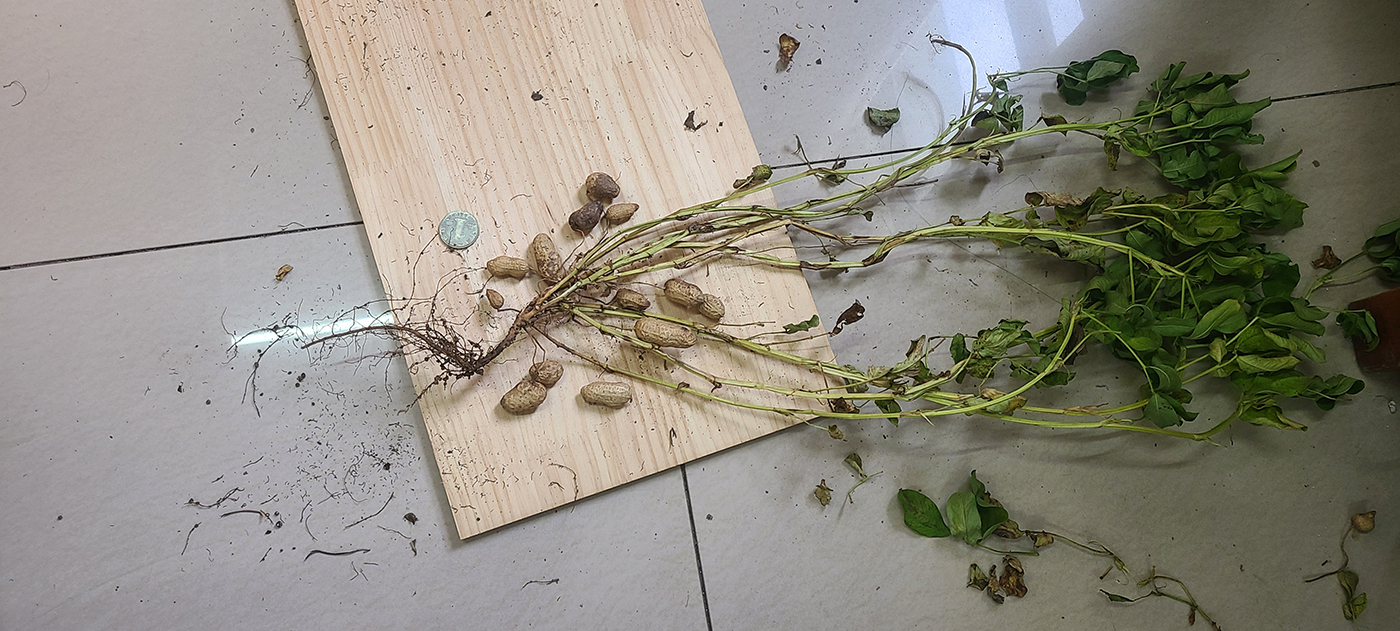h: (662, 279, 724, 321), (636, 318, 698, 350), (501, 378, 546, 416), (534, 231, 565, 283), (582, 381, 634, 407), (488, 257, 529, 279), (529, 360, 564, 385), (616, 285, 650, 309), (604, 203, 638, 223)
l: (570, 201, 601, 233), (587, 172, 620, 199)
